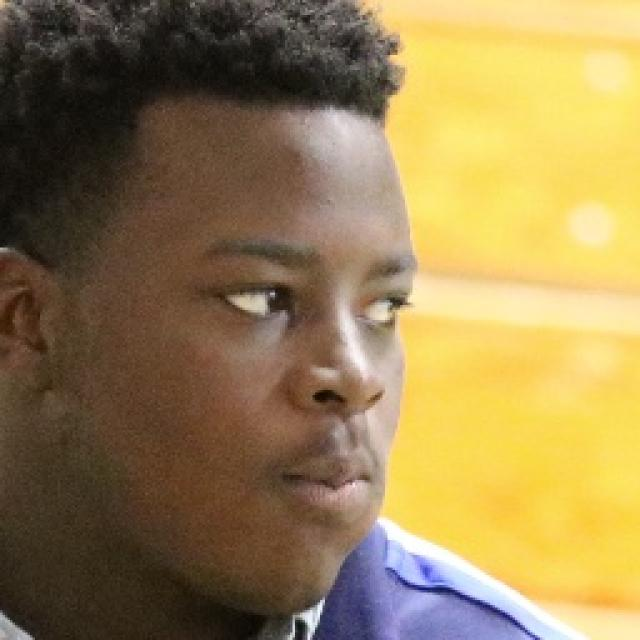earlobe: (0, 245, 58, 395)
